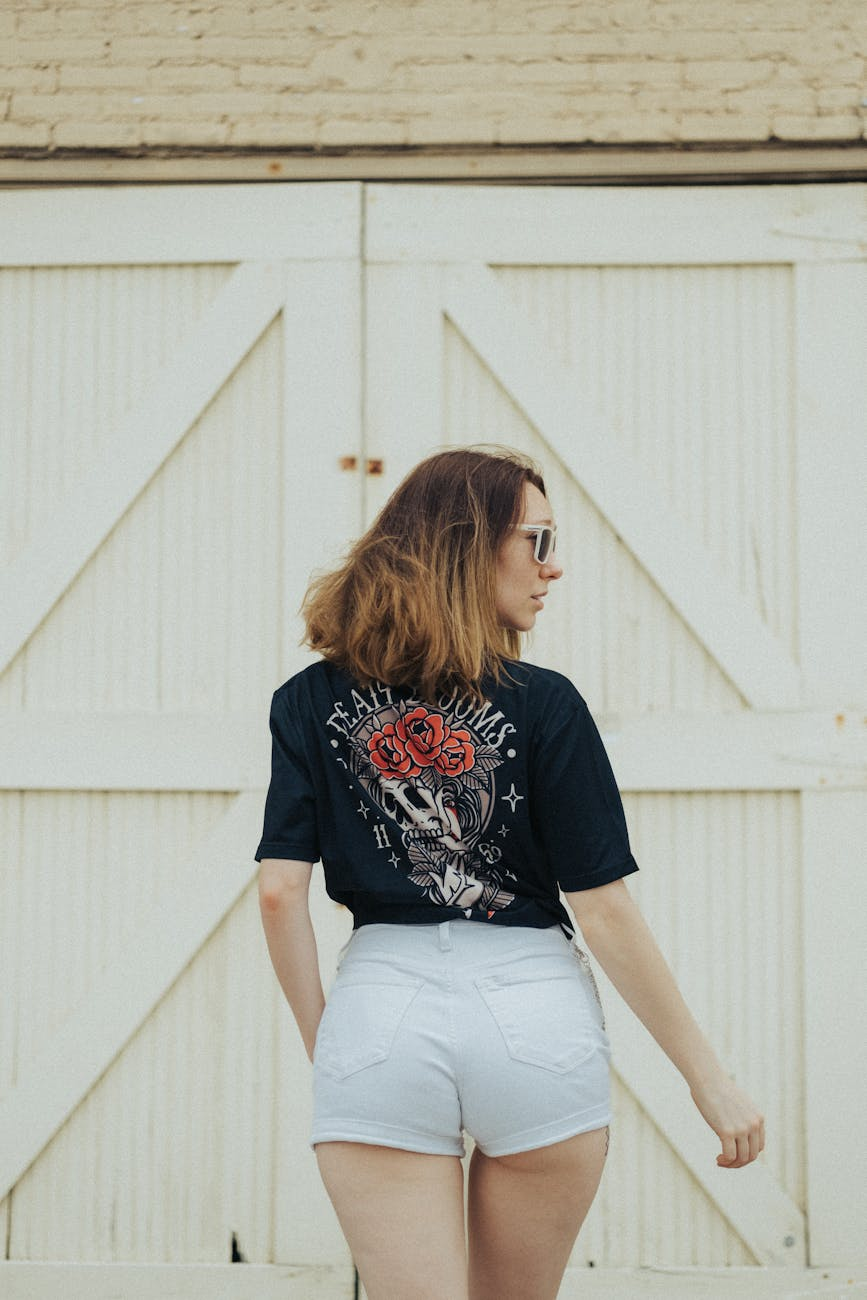shorts: (285, 911, 626, 1164)
